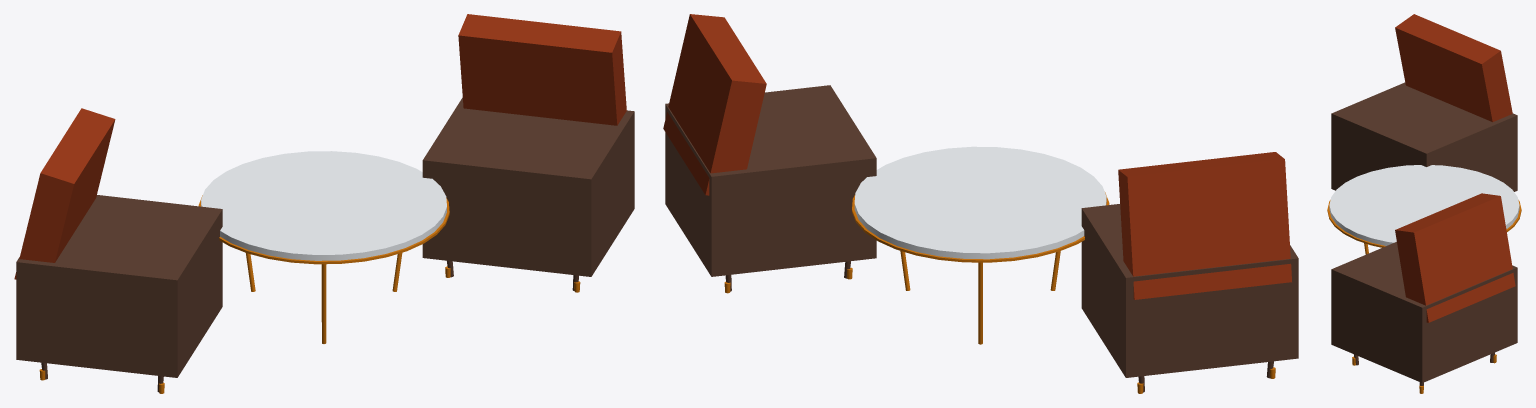
Rendered from ShiftSync_Lounge_Nook.glb.
The picture shows the model from 3 angles, left to right: view 1: azimuth 30°, elevation 25°; view 2: azimuth 150°, elevation 25°; view 3: azimuth 270°, elevation 25°; orthographic projection. The views are drawn at different scales.
Visible parts, largest first — view 1: Lounge_Wood_Shell (×2), Lounge_Leather_Back (×2), Coffee_Table_Top, Coffee_Table_BrassRing; view 2: Lounge_Wood_Shell (×2), Lounge_Leather_Back (×2), Coffee_Table_Top, Coffee_Table_BrassRing; view 3: Lounge_Wood_Shell (×2), Lounge_Leather_Back (×2), Coffee_Table_Top, Coffee_Table_BrassRing.
Part boxes in pixels (x1=…): Lounge_Wood_Shell (×2): x1=16, y1=98, x2=634, y2=377; Lounge_Leather_Back (×2): x1=14, y1=14, x2=626, y2=279; Coffee_Table_Top: x1=201, y1=151, x2=446, y2=260; Coffee_Table_BrassRing: x1=198, y1=195, x2=449, y2=264; Lounge_Wood_Shell (×2): x1=665, y1=85, x2=1298, y2=377; Lounge_Leather_Back (×2): x1=663, y1=14, x2=1291, y2=299; Coffee_Table_Top: x1=854, y1=146, x2=1106, y2=259; Coffee_Table_BrassRing: x1=852, y1=192, x2=1109, y2=262; Lounge_Wood_Shell (×2): x1=1331, y1=82, x2=1517, y2=382; Lounge_Leather_Back (×2): x1=1395, y1=14, x2=1515, y2=322; Coffee_Table_Top: x1=1329, y1=165, x2=1519, y2=245; Coffee_Table_BrassRing: x1=1327, y1=200, x2=1521, y2=247.
Bounding box in the file's own units: 2.78 × 0.9098 × 0.98.
